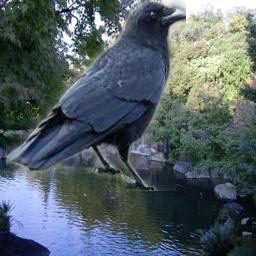Crow: (6, 0, 186, 191)
